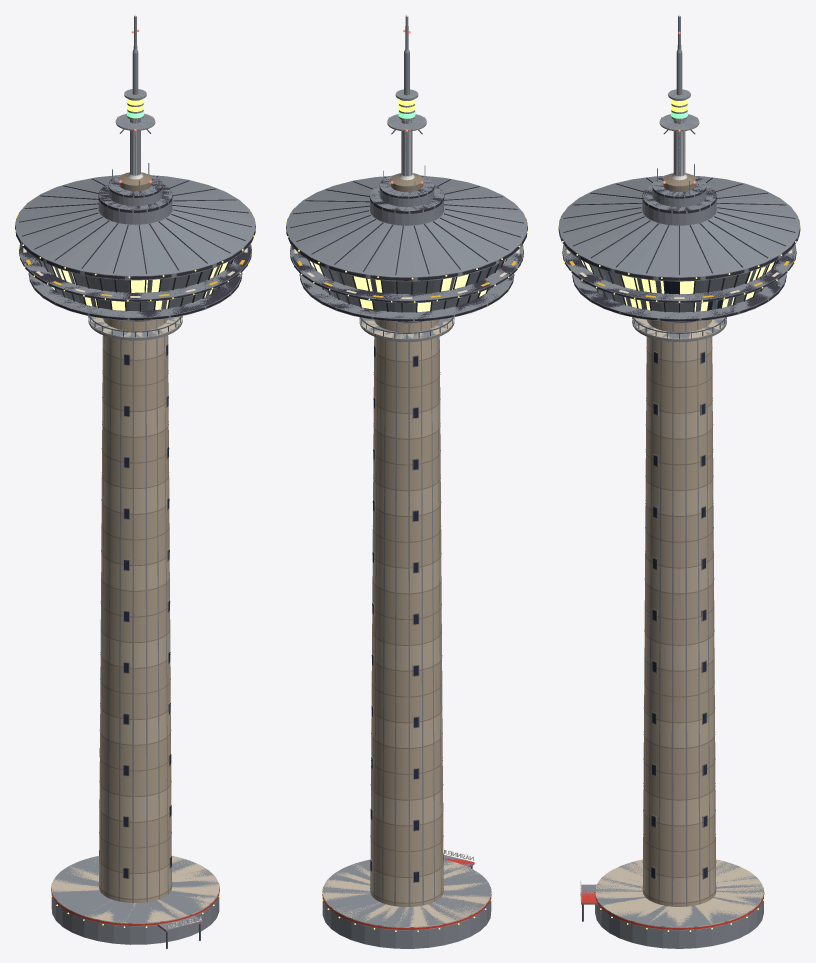
Rendered from tower.glb.
3 renders of one model, left to right at view 1: azimuth 30°, elevation 25°; view 2: azimuth 150°, elevation 25°; view 3: azimuth 270°, elevation 25°, orthographic.
Visible parts, largest first — view 1: shaft, COL_roof, COL_pavilion, COL_shaft, COL_restaurant, pavilion, COL_pod_bowl, shaft_joints, roof_seams, rest_brim, COL_mast, pod_brim_a (+7 smaller); view 2: shaft, COL_roof, COL_pavilion, COL_shaft, pavilion, COL_restaurant, COL_pod_bowl, shaft_joints, roof_seams, COL_mast, rest_brim, shaft_windows (+6 smaller); view 3: shaft, COL_roof, COL_shaft, COL_pavilion, pavilion, COL_restaurant, COL_pod_bowl, shaft_joints, roof_seams, rest_brim, COL_mast, shaft_windows (+7 smaller).
Boxes of the visible parts, x1=… form: shaft: x1=99, y1=318, x2=171, y2=902; COL_roof: x1=15, y1=174, x2=255, y2=280; COL_pavilion: x1=51, y1=856, x2=219, y2=944; COL_shaft: x1=100, y1=319, x2=171, y2=902; COL_restaurant: x1=19, y1=244, x2=251, y2=301; pavilion: x1=51, y1=856, x2=219, y2=926; COL_pod_bowl: x1=29, y1=273, x2=241, y2=321; shaft_joints: x1=98, y1=348, x2=172, y2=899; roof_seams: x1=19, y1=176, x2=251, y2=273; rest_brim: x1=19, y1=244, x2=251, y2=301; COL_mast: x1=115, y1=16, x2=155, y2=177; pod_brim_a: x1=28, y1=272, x2=242, y2=320; shaft: x1=370, y1=320, x2=443, y2=906; COL_roof: x1=286, y1=175, x2=527, y2=281; COL_pavilion: x1=322, y1=859, x2=491, y2=948; COL_shaft: x1=370, y1=320, x2=441, y2=906; pavilion: x1=322, y1=860, x2=491, y2=930; COL_restaurant: x1=290, y1=245, x2=523, y2=303; COL_pod_bowl: x1=300, y1=274, x2=513, y2=323; shaft_joints: x1=370, y1=349, x2=443, y2=903; roof_seams: x1=290, y1=176, x2=523, y2=274; COL_mast: x1=387, y1=16, x2=426, y2=180; rest_brim: x1=290, y1=245, x2=523, y2=302; shaft_windows: x1=370, y1=344, x2=443, y2=882; shaft: x1=642, y1=319, x2=716, y2=906; COL_roof: x1=558, y1=175, x2=800, y2=281; COL_shaft: x1=643, y1=320, x2=715, y2=906; COL_pavilion: x1=595, y1=860, x2=763, y2=948; pavilion: x1=594, y1=859, x2=764, y2=930; COL_restaurant: x1=562, y1=245, x2=796, y2=303; COL_pod_bowl: x1=572, y1=274, x2=786, y2=323; shaft_joints: x1=642, y1=348, x2=716, y2=903; roof_seams: x1=563, y1=177, x2=795, y2=274; rest_brim: x1=562, y1=245, x2=796, y2=302; COL_mast: x1=659, y1=16, x2=699, y2=180; shaft_windows: x1=651, y1=351, x2=707, y2=879.
Size of the model in its own units: 34.13 by 140 by 34.46.
